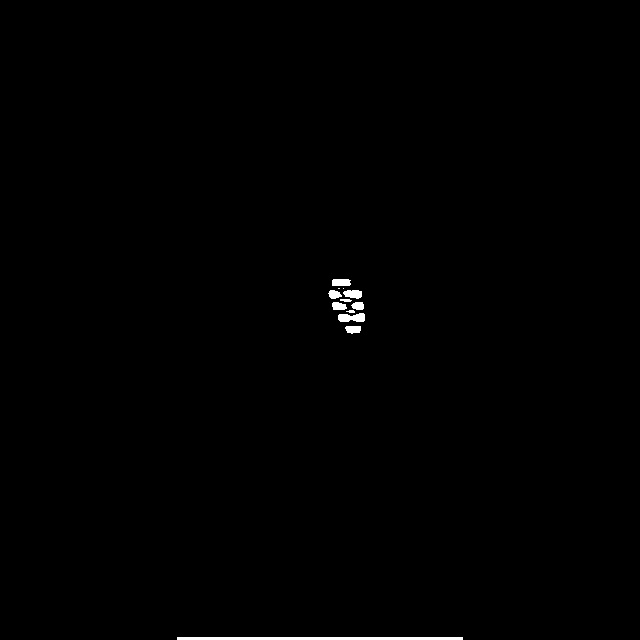03_intrusion: (323, 273, 378, 335)
